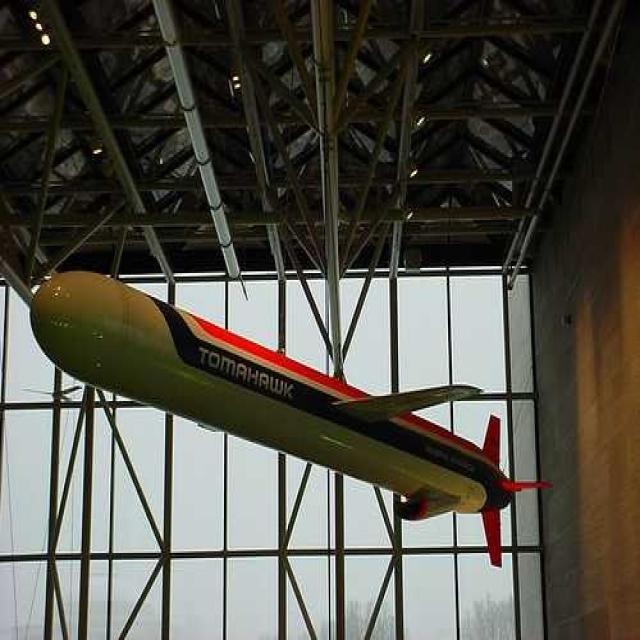missile: (30, 266, 540, 566)
